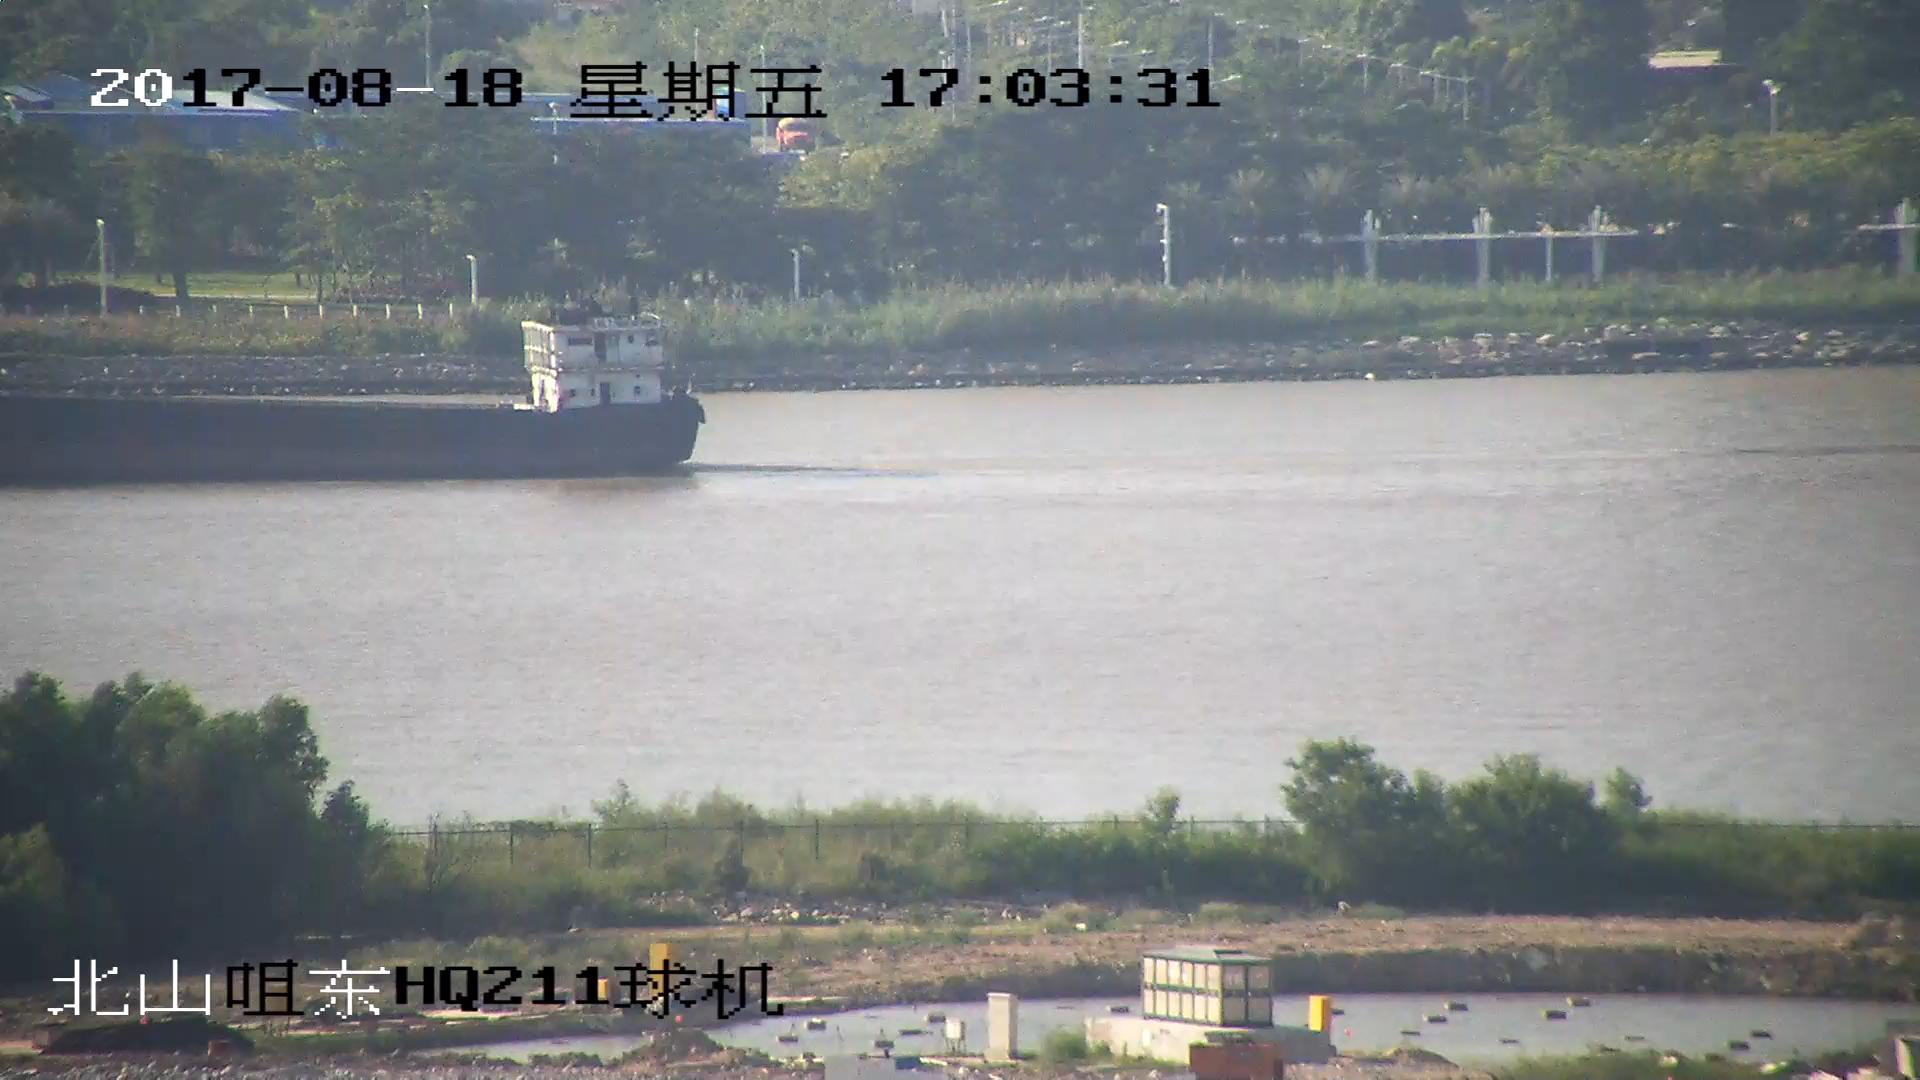general cargo ship: (1, 306, 712, 477)
